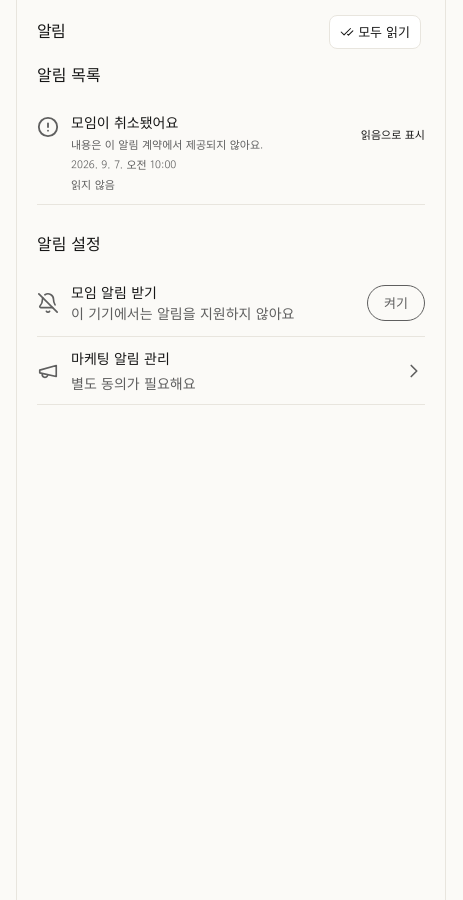
it: NotificationsPage API behavior › refetches after a 409 read conflict and prevents duplicate submit
The image size is (463, 900).
Click the button "읽음으로 표시". click: [393, 134]
box: [361,112,425,156]
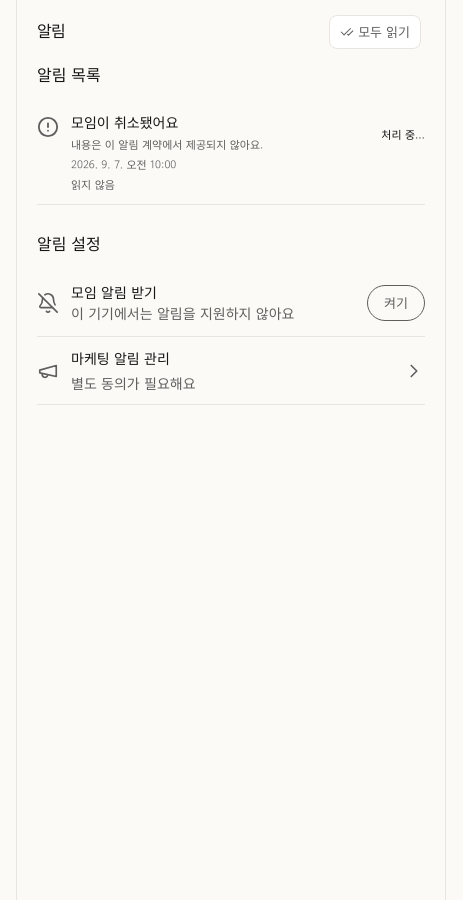
Click the button with aria-label "읽음으로 표시". click: [403, 134]
box: [381,112,425,156]
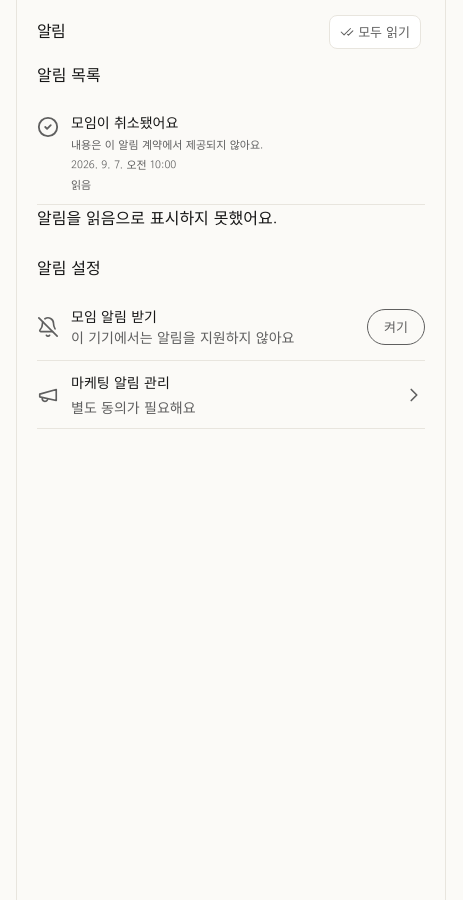
Result: the text "알림을 읽음으로 표시하지 못했어요." is shown at [37,205,277,229]
